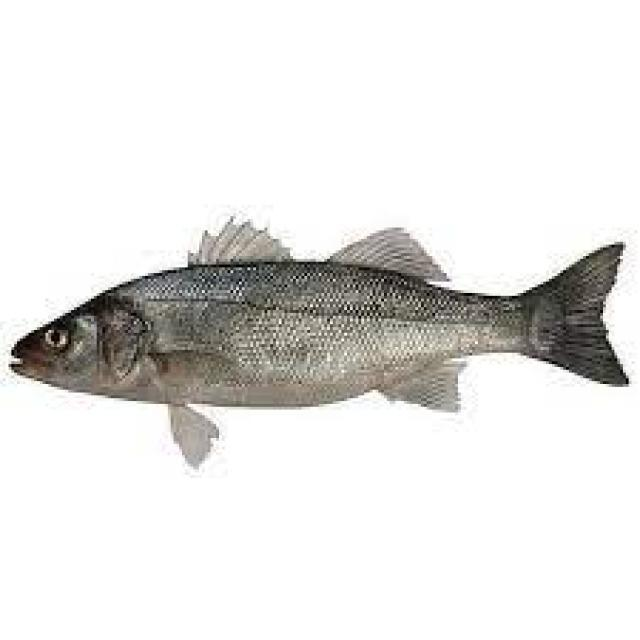Healthy Fish: (10, 212, 640, 472)
